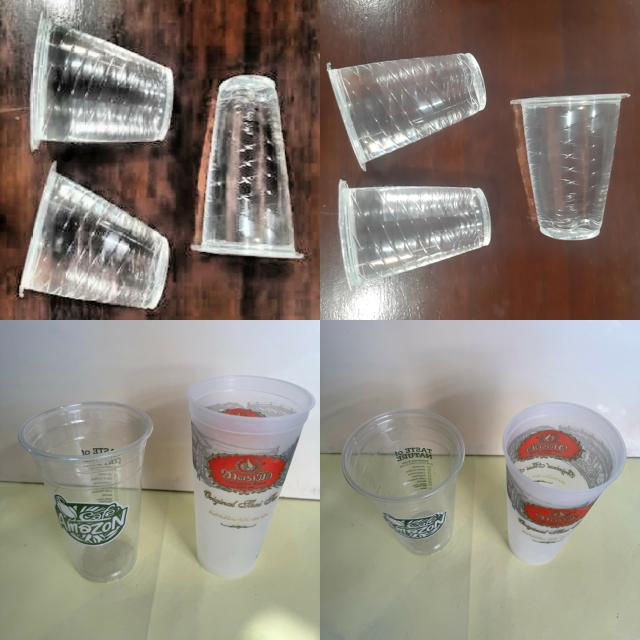Single-Use-Plastic: (188, 375, 315, 578), (19, 402, 152, 582), (19, 162, 170, 309), (191, 75, 304, 259), (502, 402, 626, 564), (30, 14, 172, 151), (326, 54, 486, 171), (341, 409, 465, 554), (512, 94, 629, 240), (339, 180, 491, 290)
